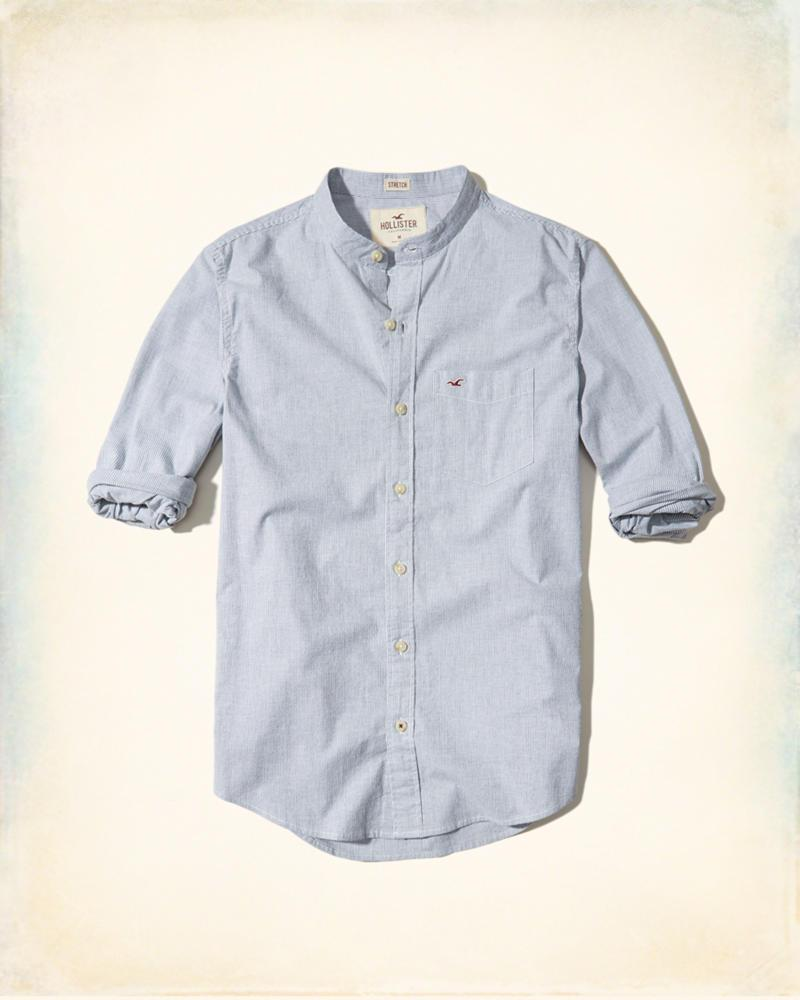teeshirt: (71, 159, 721, 866)
